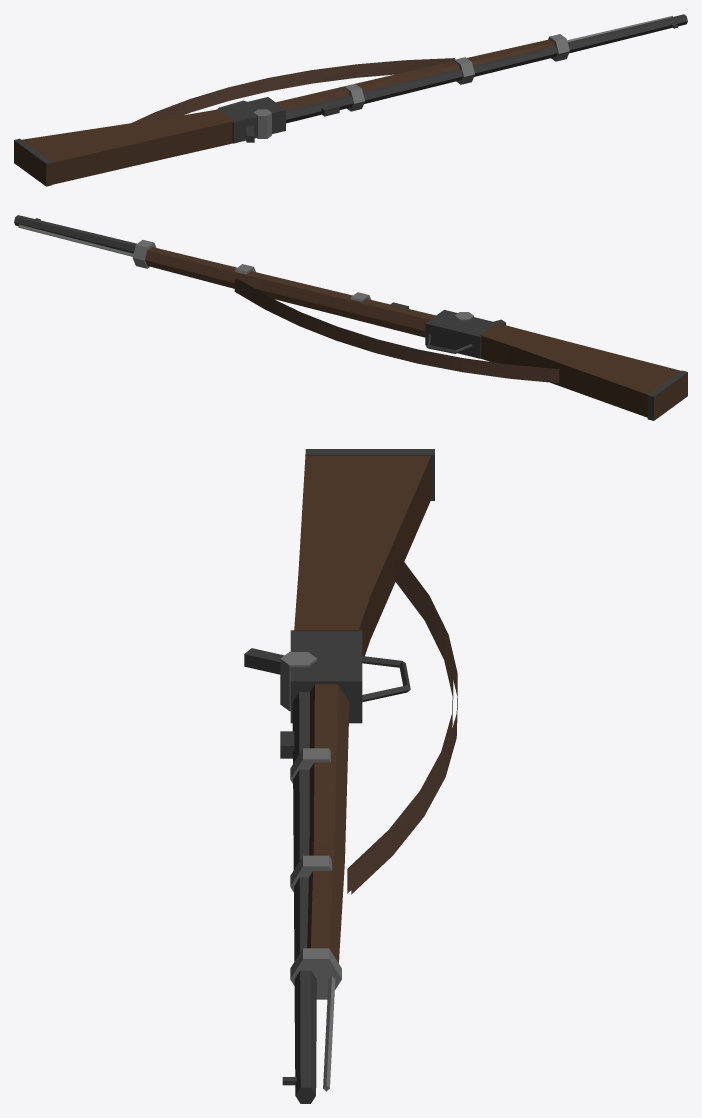
File: fusil_remington.glb
3 renders of one model, top to bottom at view 1: azimuth 30°, elevation 25°; view 2: azimuth 150°, elevation 25°; view 3: azimuth 270°, elevation 25°, orthographic. The views are drawn at different scales.
Visible parts, largest first — view 1: FusilRemington; view 2: FusilRemington; view 3: FusilRemington.
Boxes of the visible parts, x1,y1,x2,y2 form: FusilRemington: (14,14,687,186); FusilRemington: (14,215,687,420); FusilRemington: (244,449,457,1103).
Size of the model in its own units: 1.28 by 0.044 by 0.1852.
